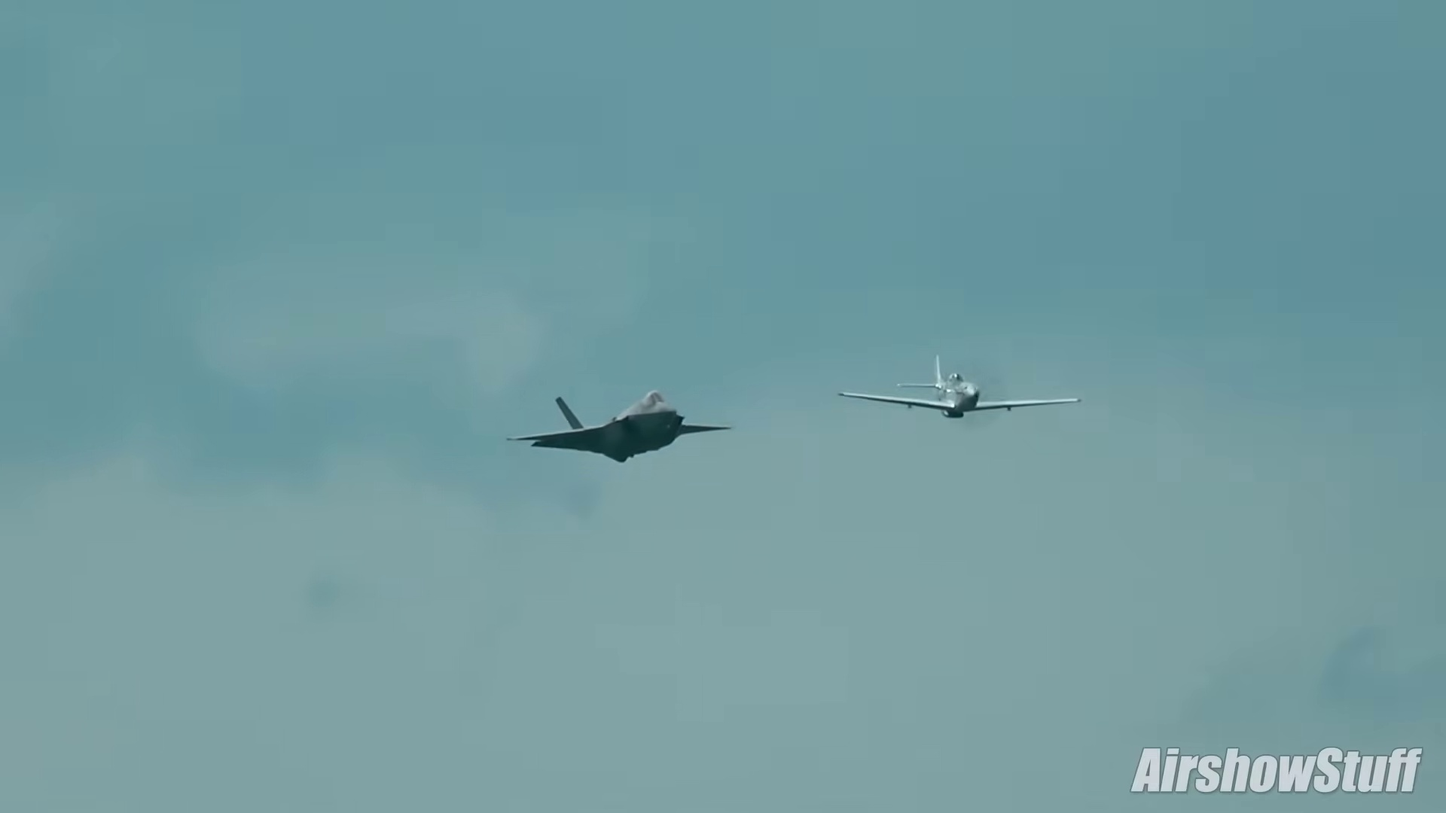F35: (503, 382, 733, 468)
